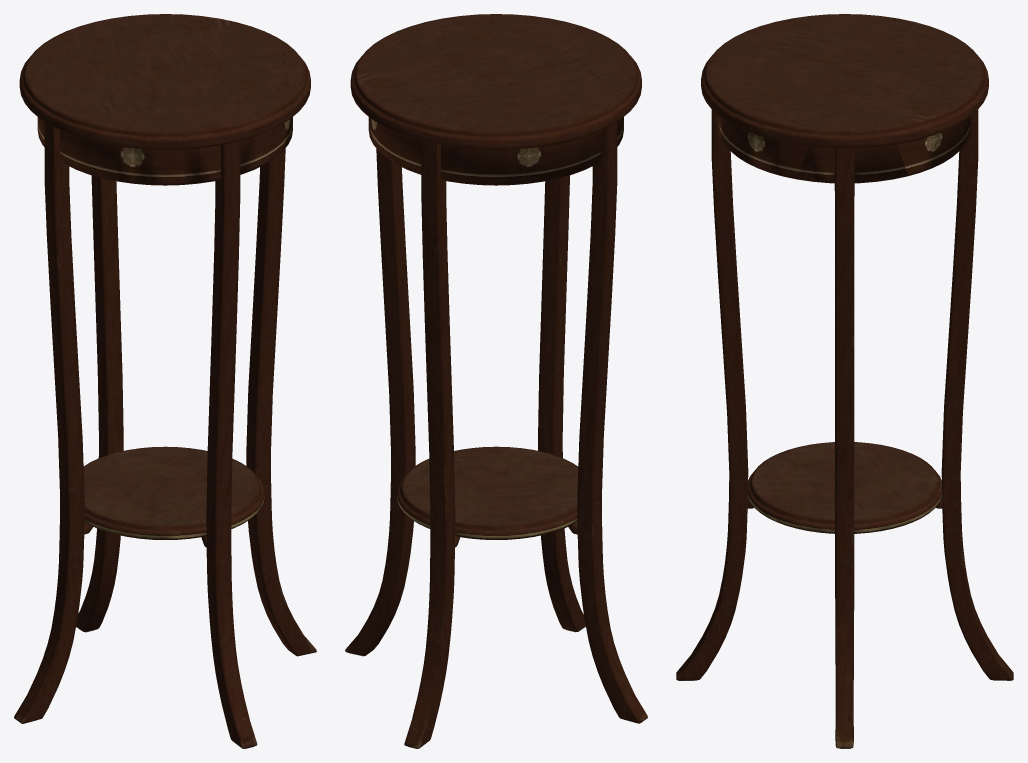
File: side_table_tall_01.glb
3 renders of one model, left to right at view 1: azimuth 30°, elevation 25°; view 2: azimuth 150°, elevation 25°; view 3: azimuth 270°, elevation 25°, orthographic.
Parts seen in each view (by area): view 1: side_table_tall_01; view 2: side_table_tall_01; view 3: side_table_tall_01.
Boxes of the visible parts, left/top/right/bottom form: side_table_tall_01: left=14, top=14, right=316, bottom=748; side_table_tall_01: left=345, top=14, right=647, bottom=748; side_table_tall_01: left=676, top=14, right=1013, bottom=748.
Size of the model in its own units: 0.384 by 0.7612 by 0.384.
Materials: 1 (1 with a texture image).
